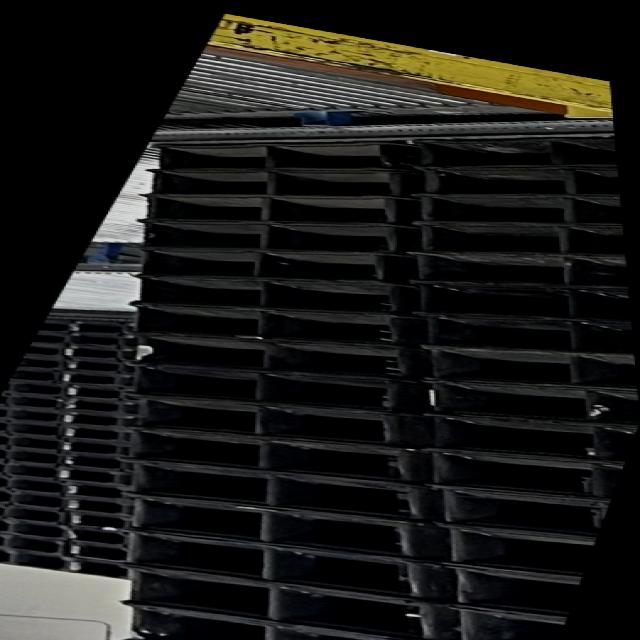igps: (111, 560, 452, 640), (109, 525, 440, 599), (116, 490, 426, 560), (117, 459, 434, 522), (111, 428, 422, 486), (110, 392, 410, 450), (114, 360, 406, 417), (112, 332, 414, 386), (121, 272, 412, 319), (128, 303, 416, 350), (409, 380, 640, 432), (413, 414, 640, 464), (121, 247, 412, 285), (128, 218, 418, 256), (422, 450, 628, 502), (427, 486, 618, 542), (409, 314, 640, 358), (423, 348, 640, 394), (405, 283, 640, 324), (123, 602, 364, 640), (436, 525, 602, 580), (398, 251, 636, 289), (128, 166, 429, 196), (135, 194, 415, 226), (404, 223, 640, 260), (401, 194, 634, 229), (440, 565, 590, 619), (146, 140, 416, 170), (398, 136, 634, 169), (402, 166, 632, 197), (441, 604, 575, 640), (4, 548, 134, 579), (4, 533, 132, 564), (5, 502, 131, 532), (8, 518, 132, 548), (0, 472, 126, 501), (0, 458, 125, 487), (0, 489, 130, 516), (4, 444, 123, 472), (6, 430, 122, 456), (10, 352, 138, 375), (4, 403, 120, 428), (6, 376, 124, 399), (7, 390, 120, 414), (13, 364, 121, 388), (19, 340, 126, 364), (32, 316, 136, 336), (26, 329, 124, 350)
